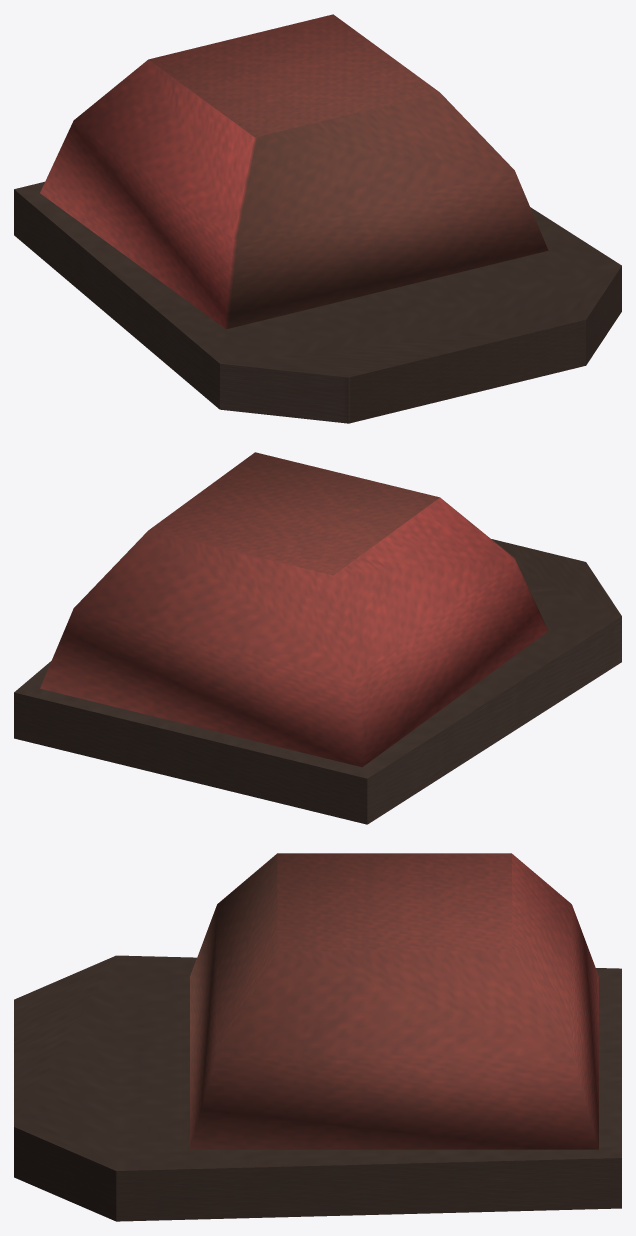
Rendered from Red Cap.glb.
The picture shows the model from 3 angles, top to bottom: view 1: azimuth 30°, elevation 25°; view 2: azimuth 150°, elevation 25°; view 3: azimuth 270°, elevation 25°; orthographic projection. The views are drawn at different scales.
Parts seen in each view (by area): view 1: Cube, Cube.001; view 2: Cube, Cube.001; view 3: Cube, Cube.001.
Boxes of the visible parts, x1,y1,x2,y2 form: Cube: (40, 14, 548, 329); Cube.001: (14, 181, 621, 423); Cube: (40, 452, 548, 767); Cube.001: (14, 539, 621, 824); Cube: (190, 853, 598, 1149); Cube.001: (14, 955, 621, 1221).
Bounding box in the file's own units: 1.82 × 0.8302 × 2.17.
Materials: 2 (2 with a texture image).
